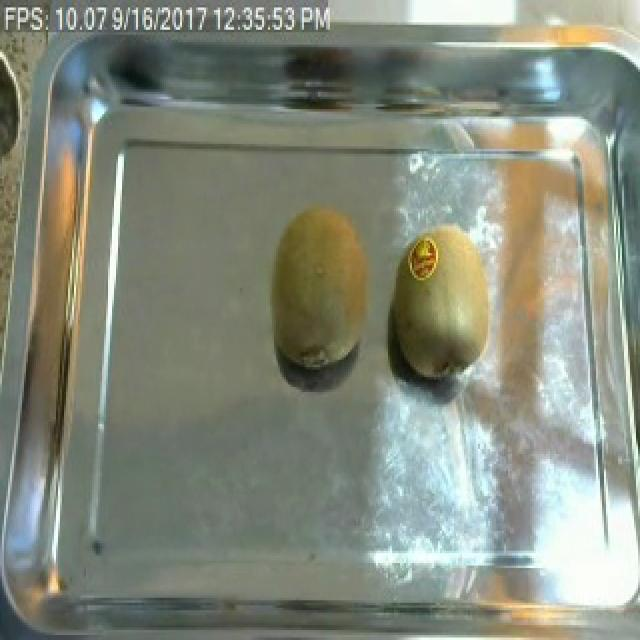Fruit: (258, 196, 384, 380), (384, 216, 504, 389)
